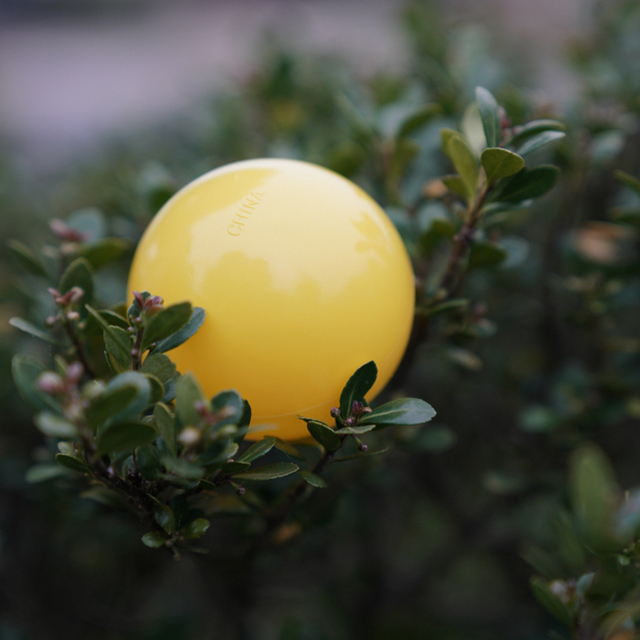Ball: (124, 153, 422, 436)
